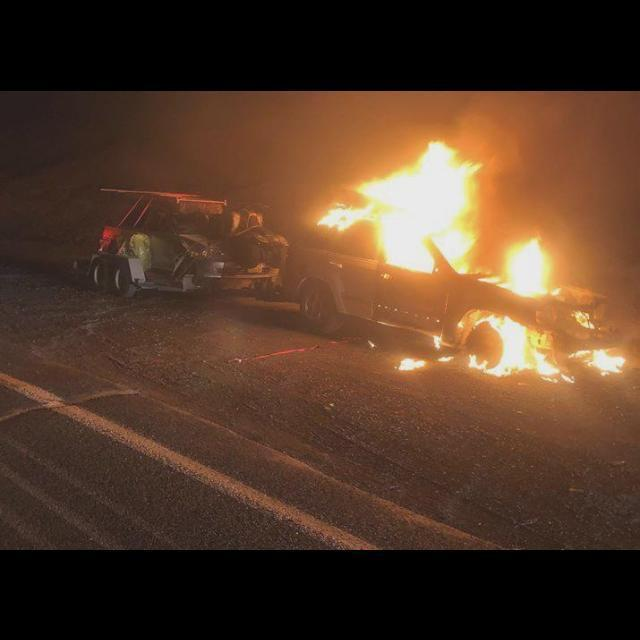Fire: (316, 138, 562, 298), (458, 309, 626, 383), (398, 356, 428, 369), (436, 354, 454, 362), (433, 334, 441, 348)
